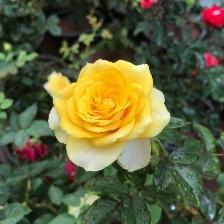rose: (53, 60, 171, 174)
